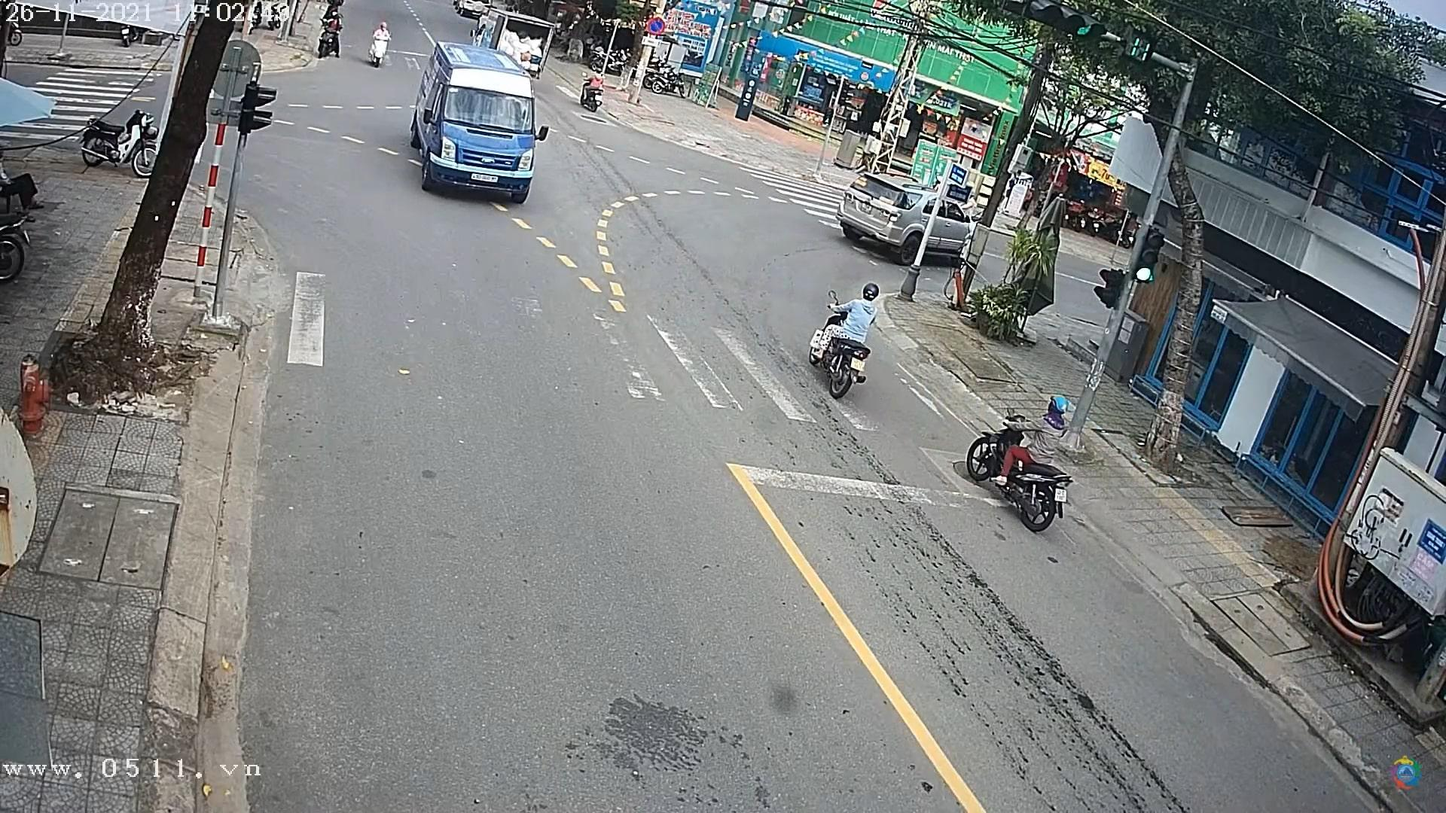car: (410, 41, 545, 204)
